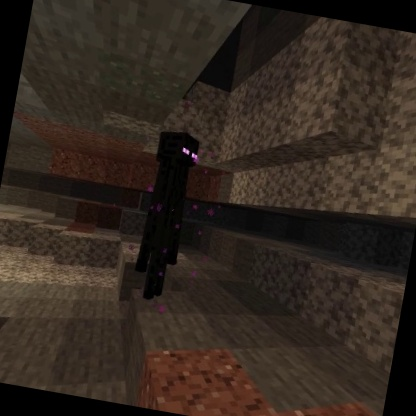enderman: (126, 124, 206, 307)
